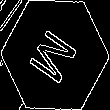M_SE: (25, 22, 85, 88)
